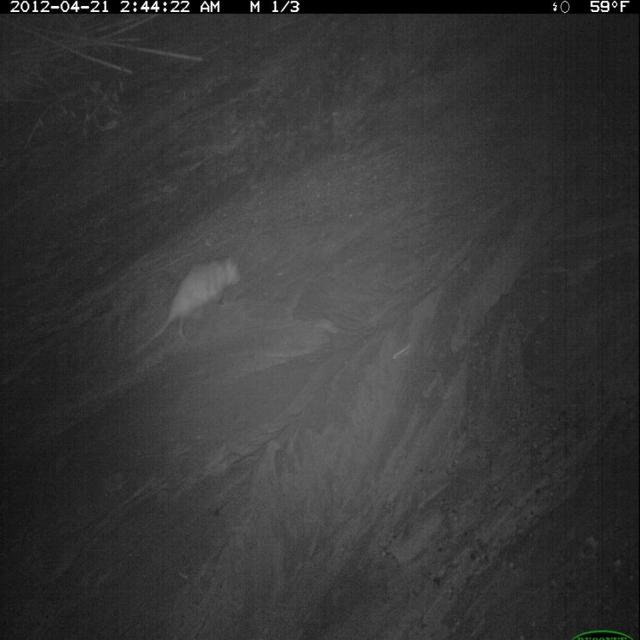opossum: (133, 250, 249, 368)
